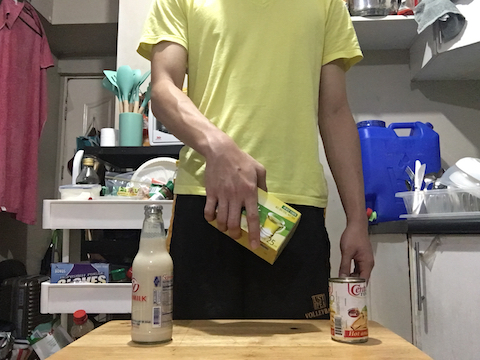bottle: (129, 202, 177, 346)
box: (210, 182, 300, 267)
can: (327, 271, 373, 346)
grab: (201, 150, 270, 239)
